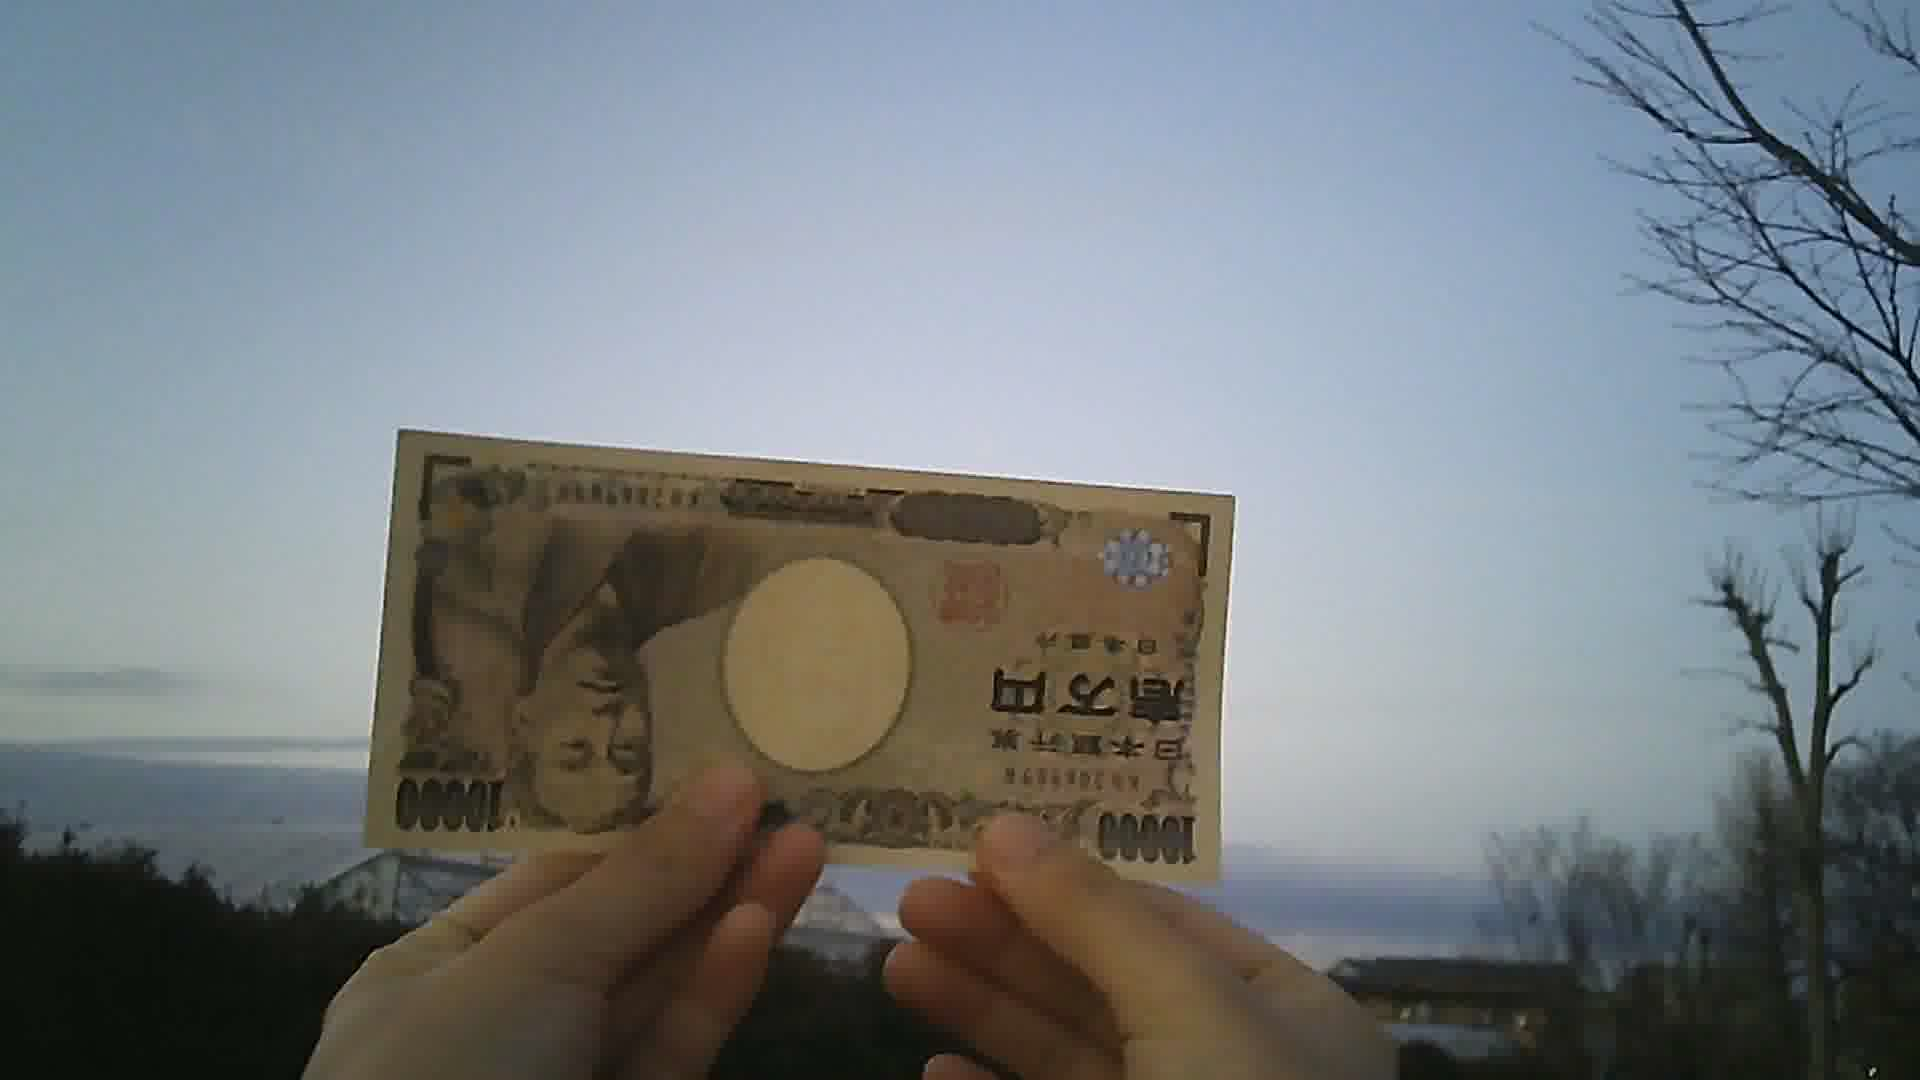10,000 Yen: (345, 415, 1244, 881)
